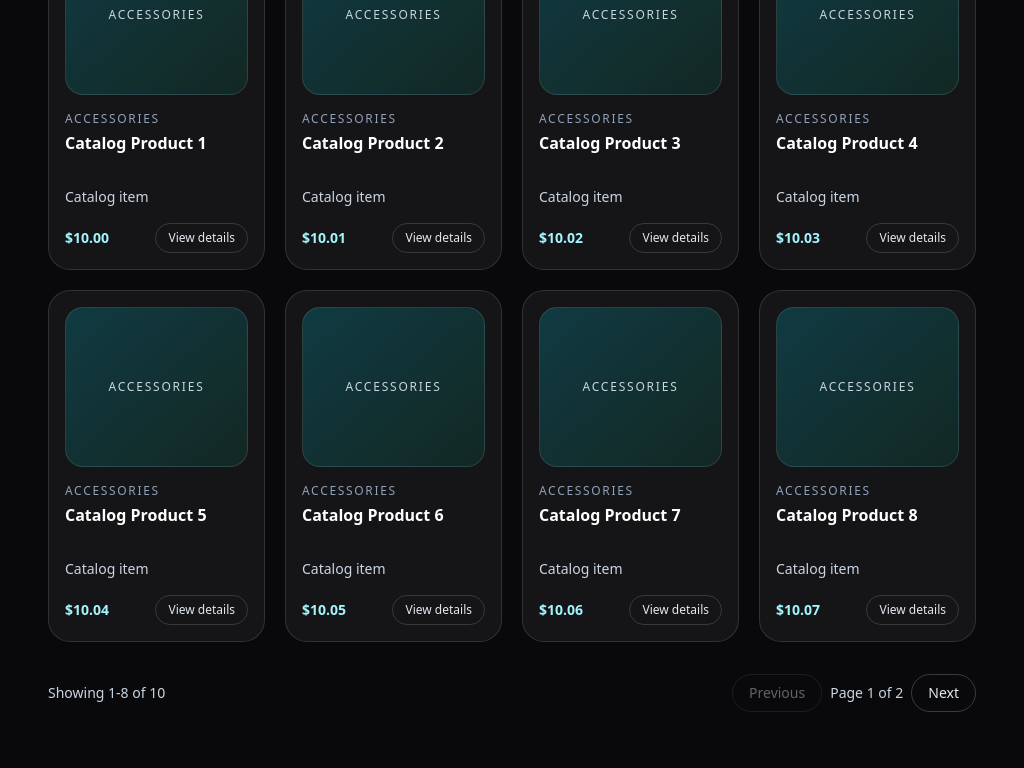
Test case: CatalogClient › paginates when results exceed one page
The image size is (1024, 768).
(page scrolled)
expect the link "Catalog Product 1" is shown: met, box [65,132,207,154]
expect the text "Page 1 of 2" is shown: met, box [830,683,903,703]
Click the button "Next" at (944, 693), box [911,674,976,712]
(page scrolled)
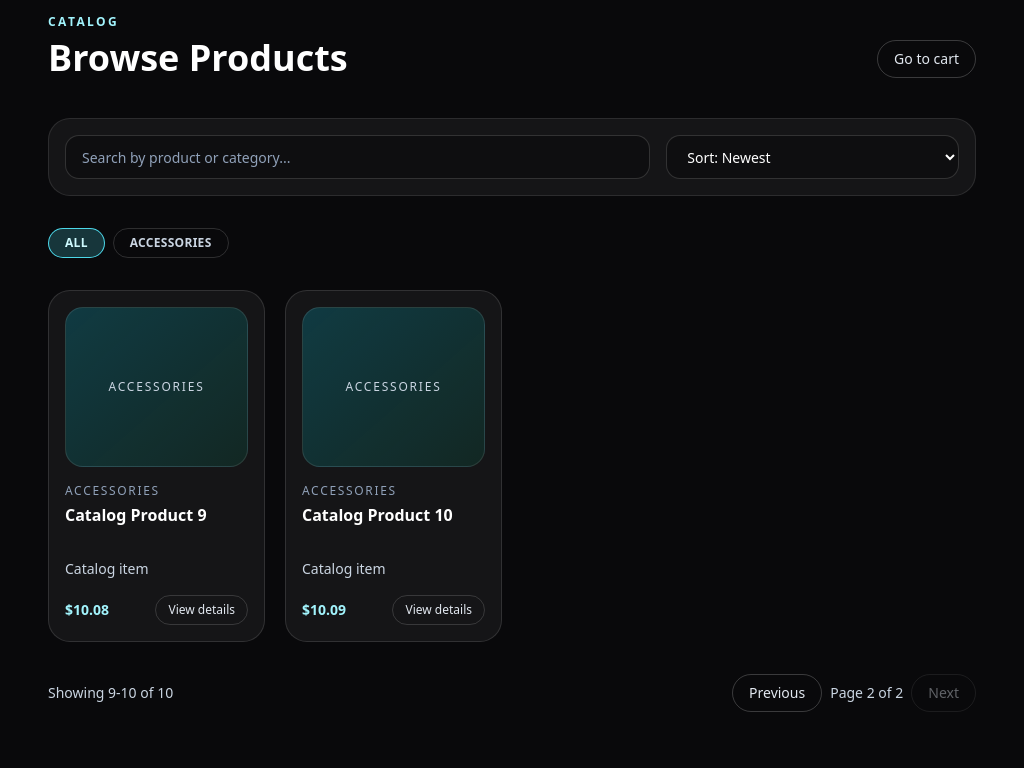
expect the text "Page 2 of 2" is shown: met, box [830,683,903,703]
expect the link "Catalog Product 9" is shown: met, box [65,504,207,526]
